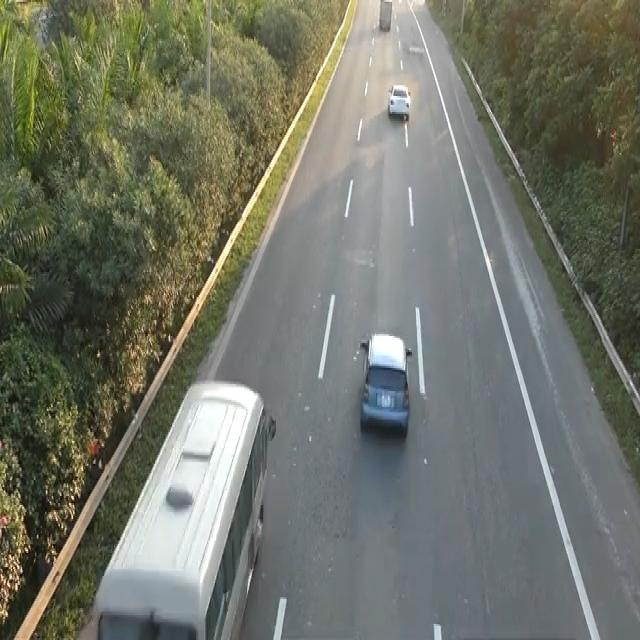bus: (355, 329, 413, 439)
jeep: (77, 373, 277, 635)
